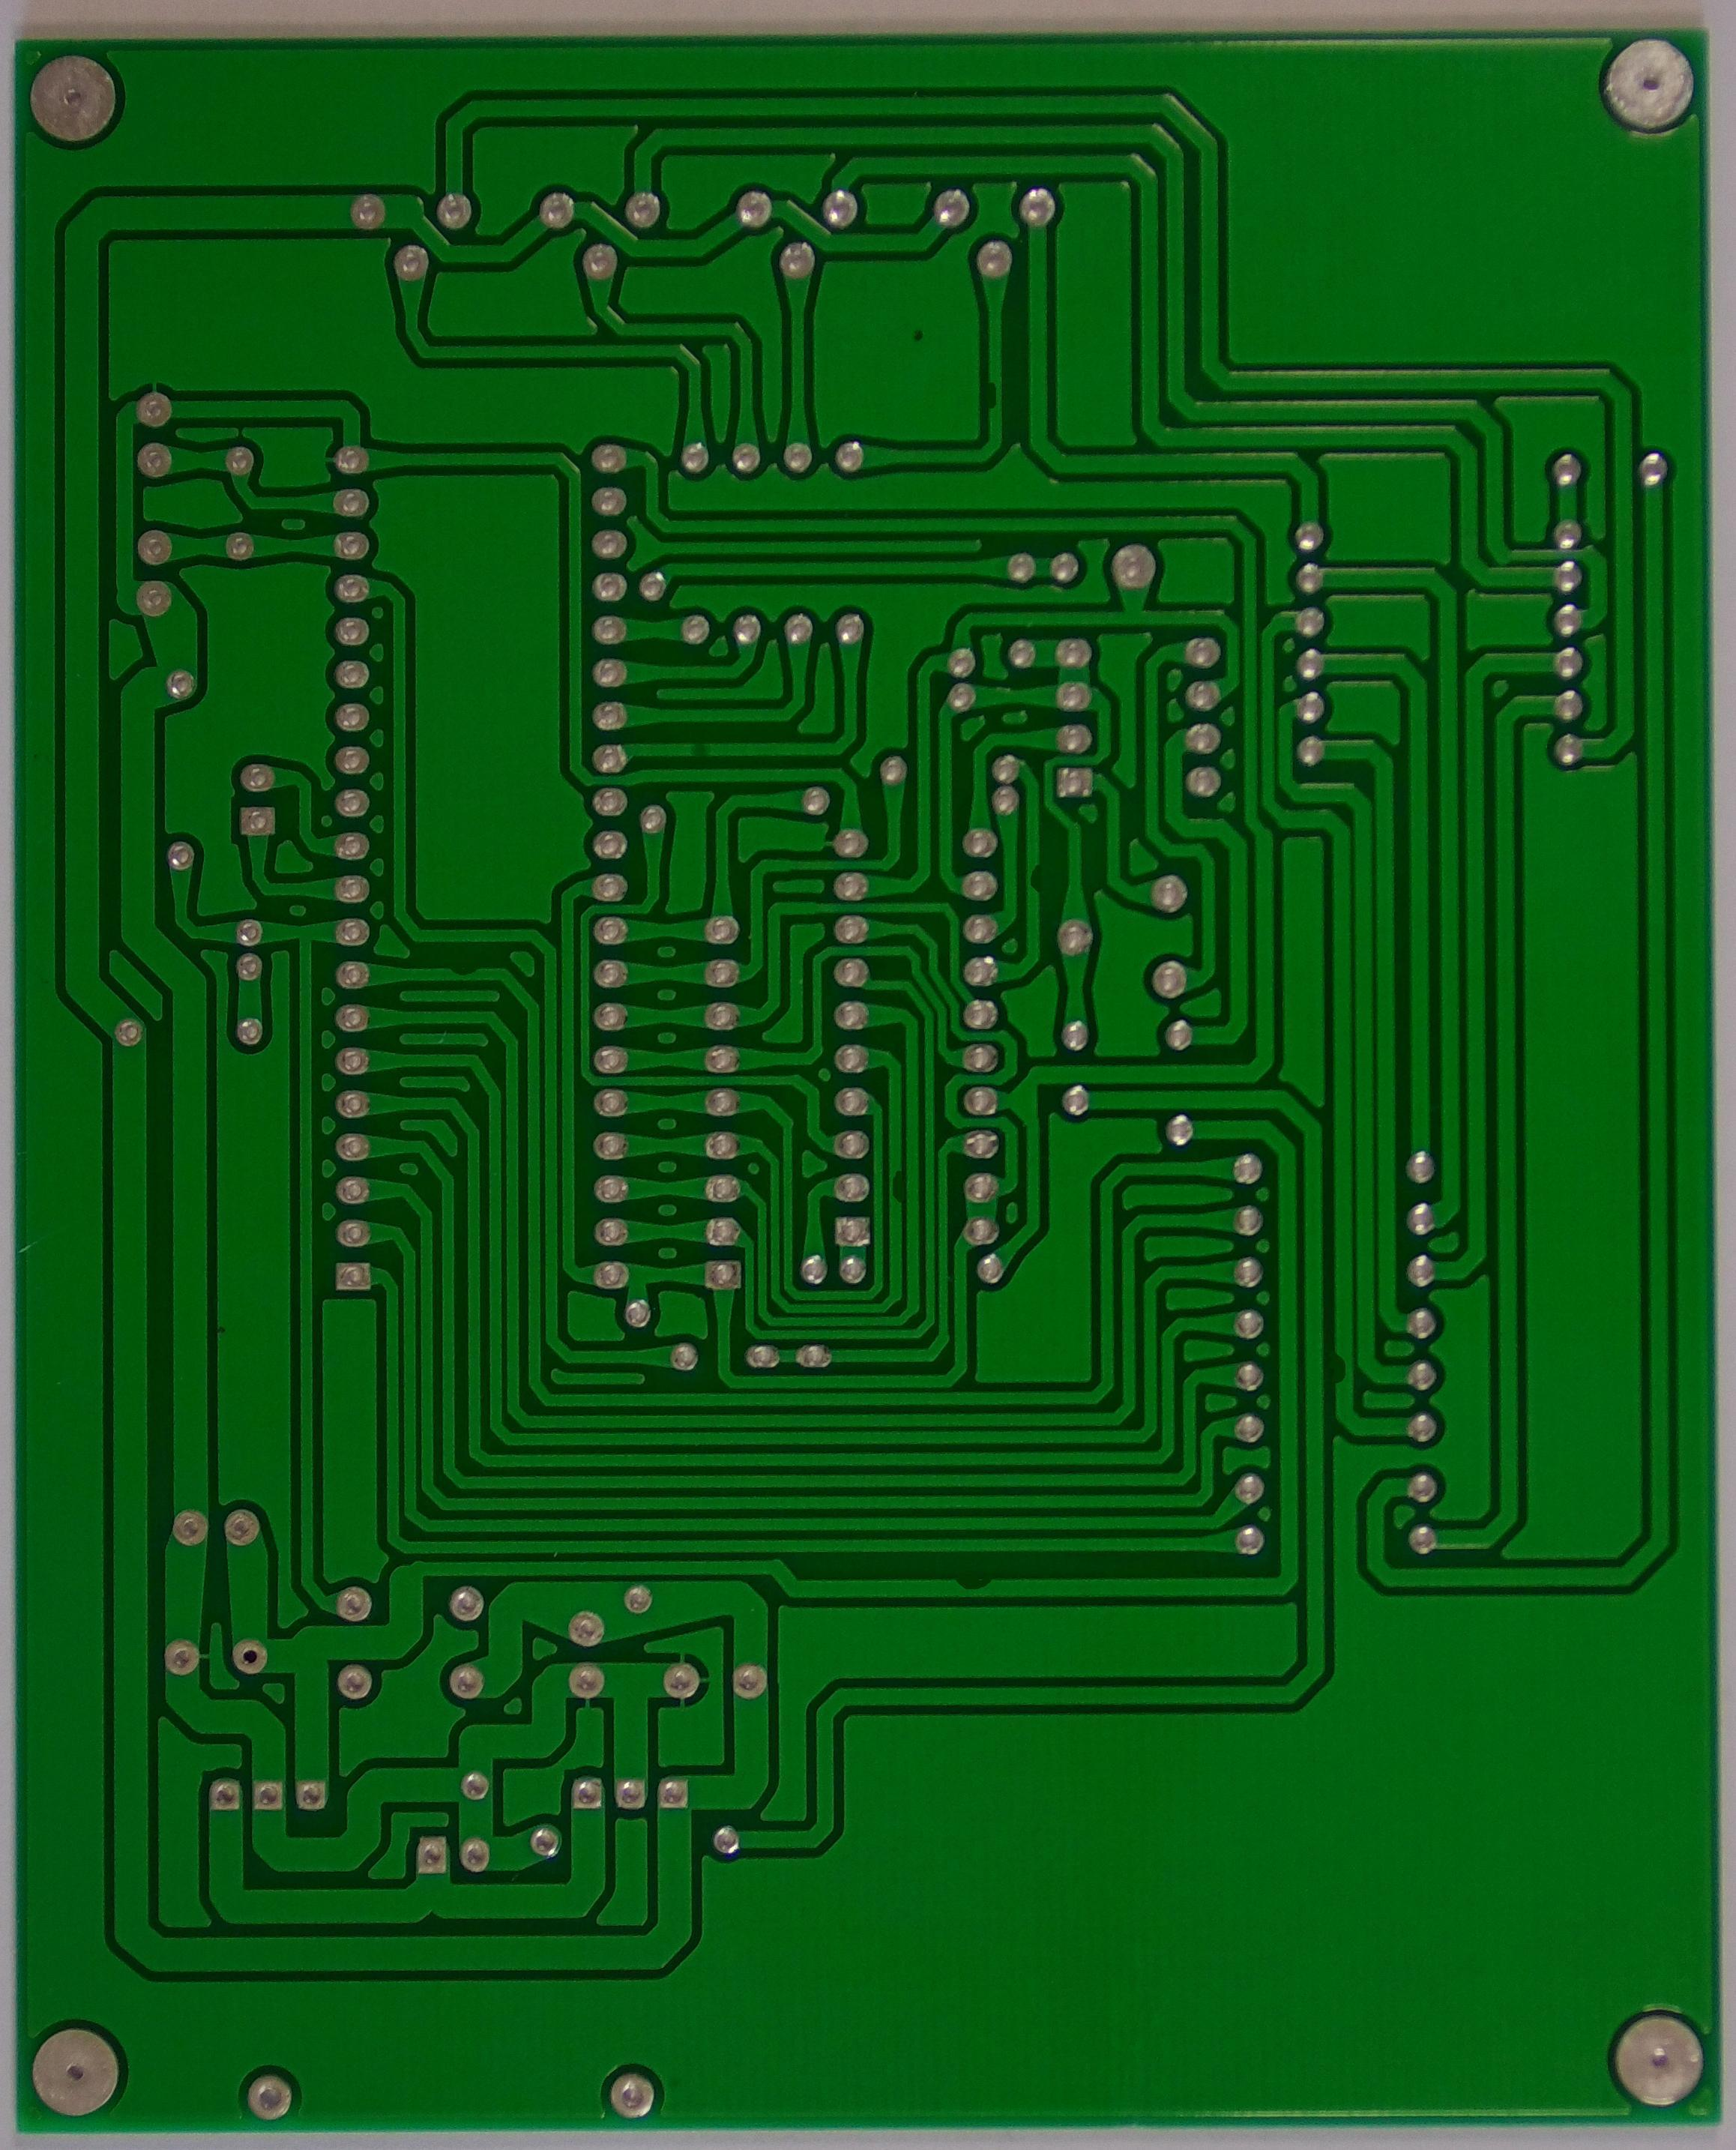mouse_bite: (934, 1535, 1008, 1603), (427, 942, 500, 985), (880, 1151, 921, 1224), (1316, 1330, 1353, 1401), (1020, 854, 1063, 909), (973, 367, 1006, 430)
